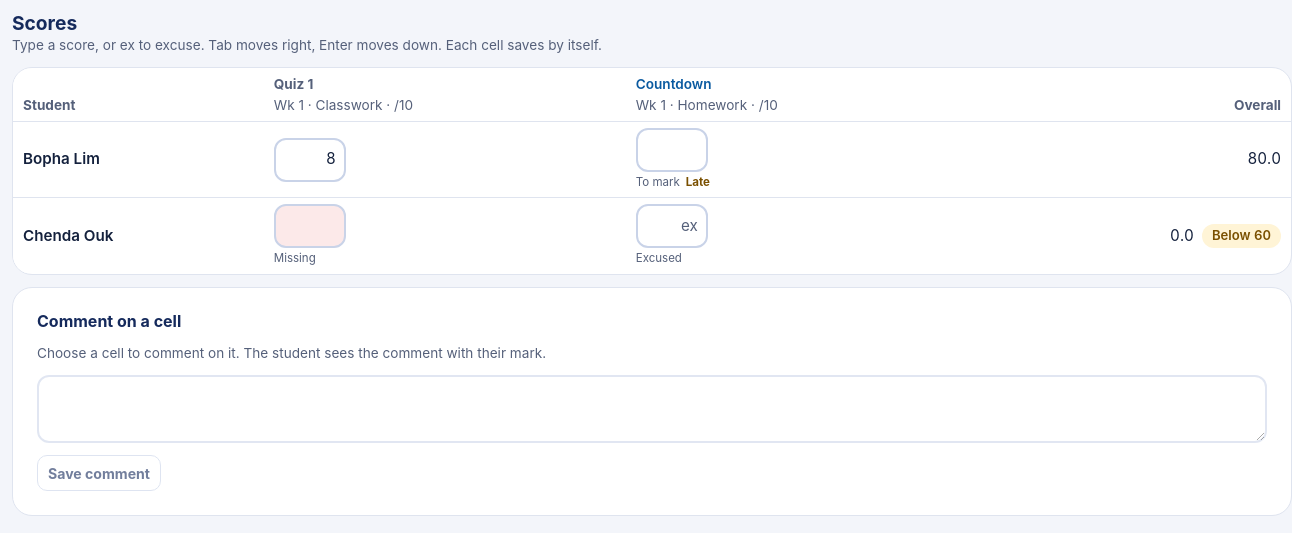
GradebookGrid › “ex” excuses the student from that work
In the field named "Chenda Ouk, Quiz 1 (out of 10)": (310, 226) [274,204,346,248], type "EX"
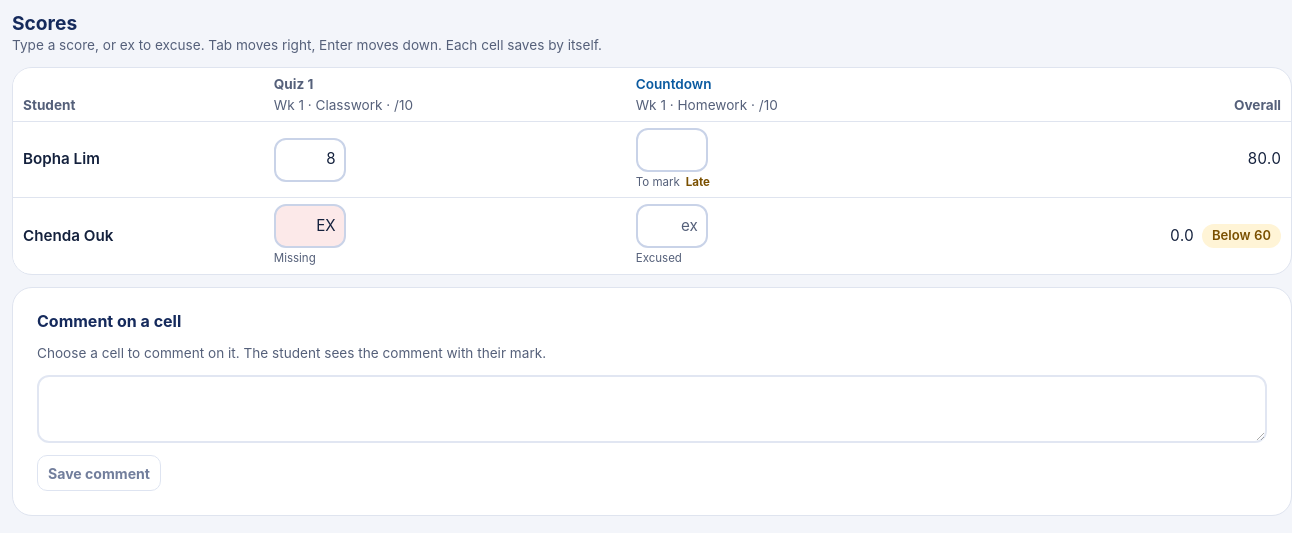
Leave the field named "Chenda Ouk, Quiz 1 (out of 10)", box [274,204,346,248]
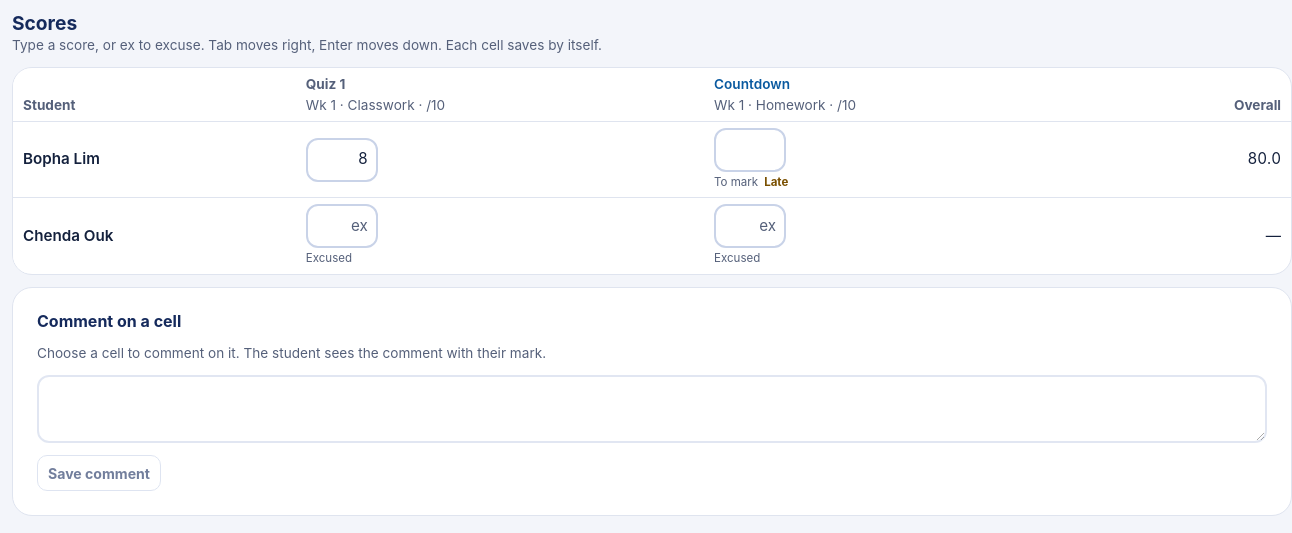
Expected: the text "Excused" is shown 2 times, [306,252,352,266]; [714,252,760,266]
Result: the cell with test id "overall-s2" reads "—" at [1266,226,1281,245]
